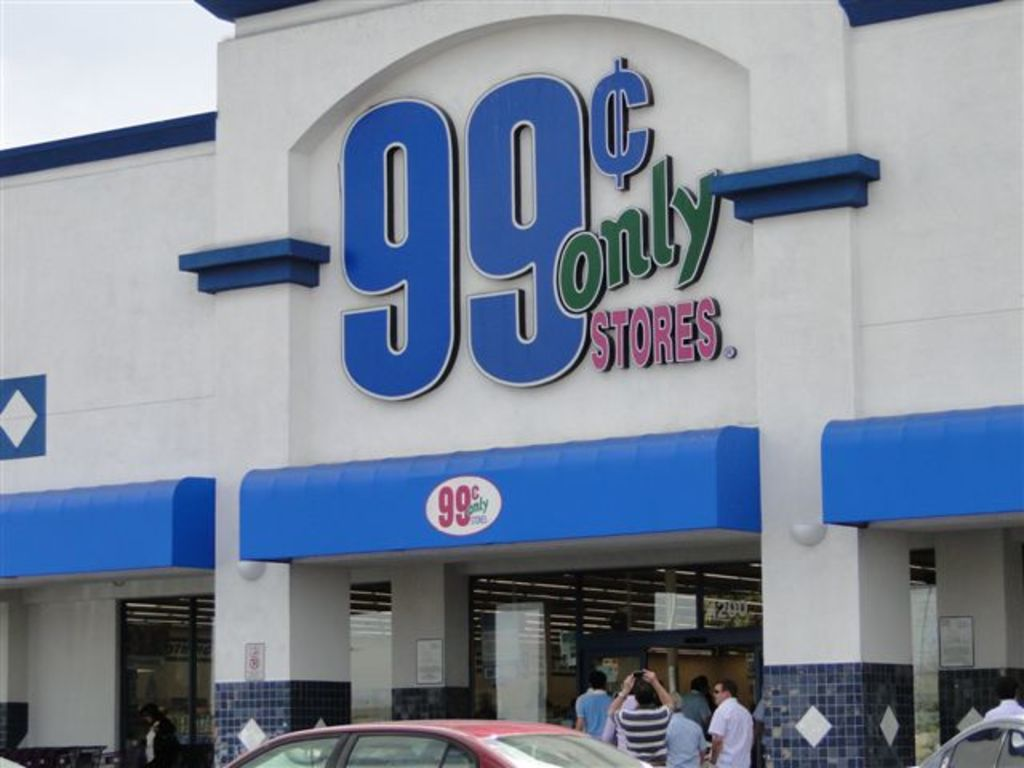Car: (217, 723, 656, 766), (908, 716, 1022, 766)
